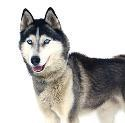dog: (16, 5, 124, 122)
